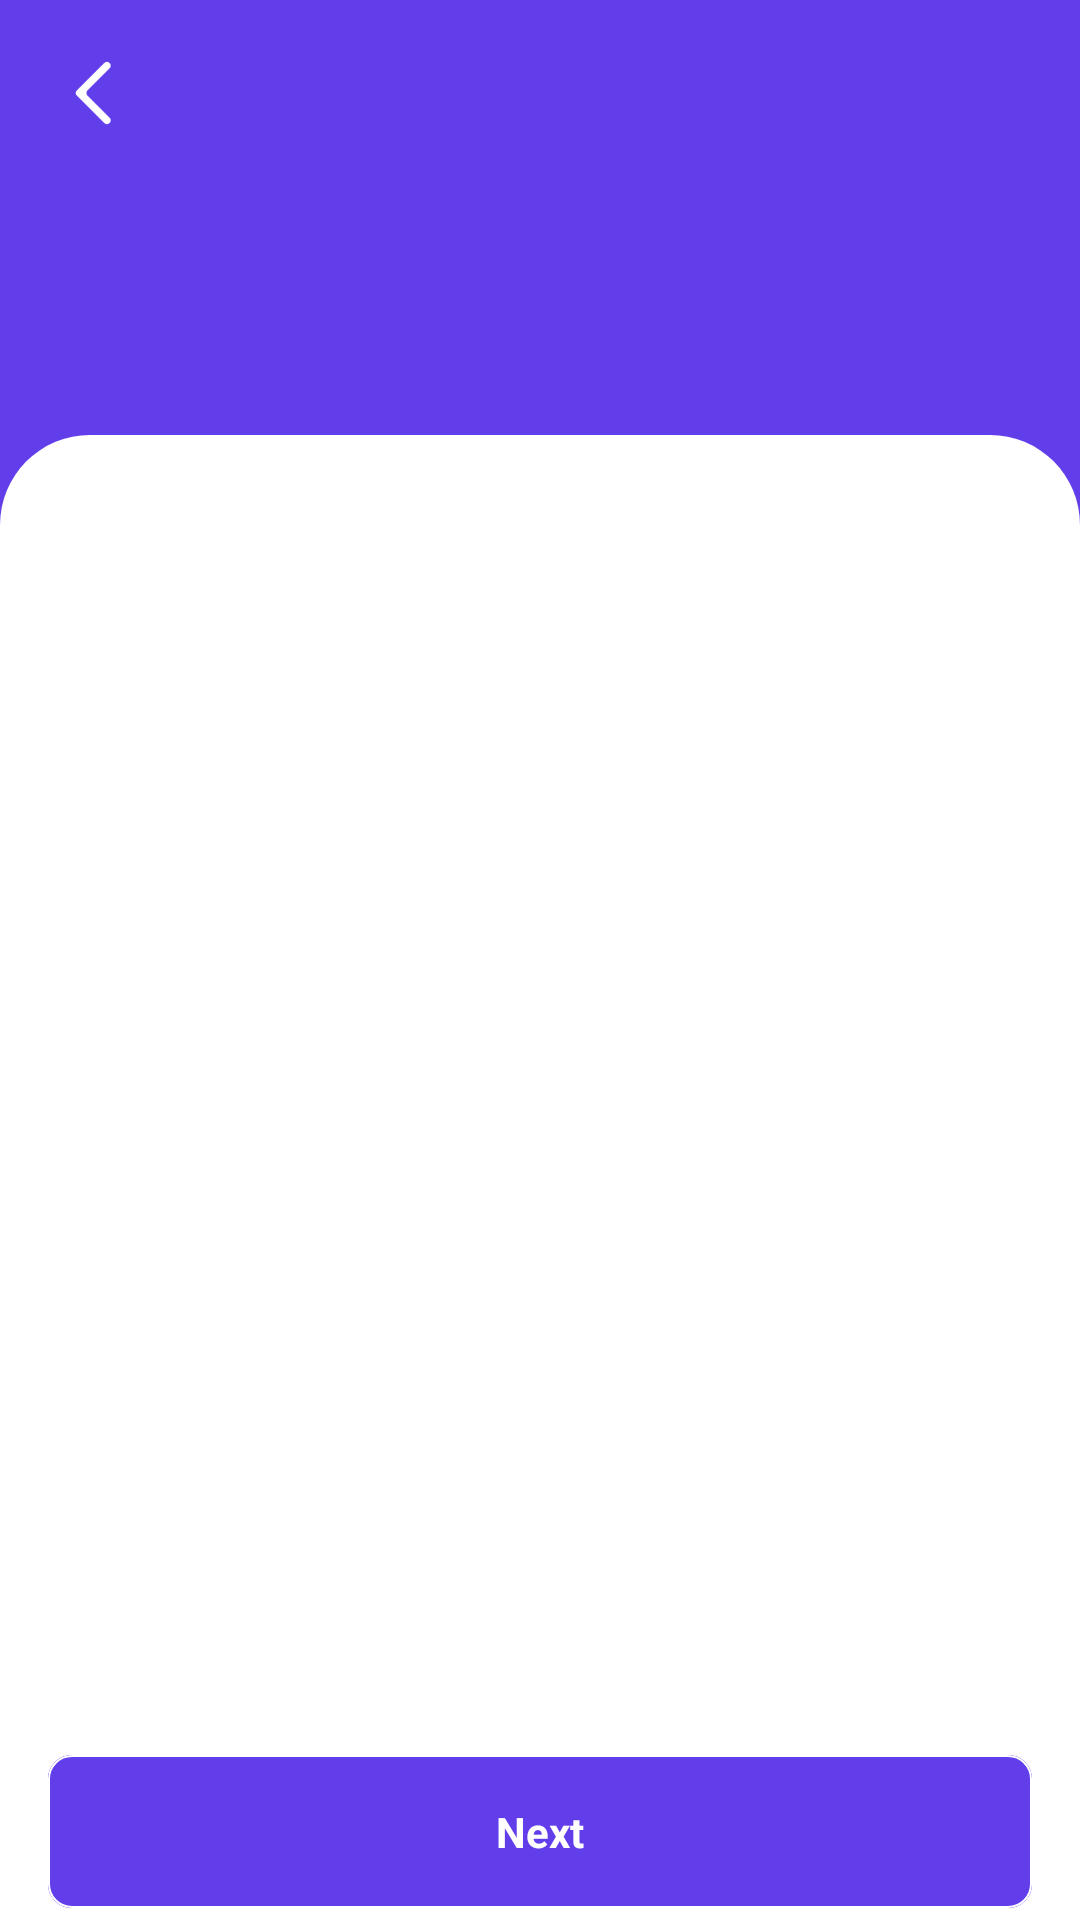

Point at icon controls on the screen. Image size 1080px×1920px, points as point (x, y).
back: point (93, 93)
